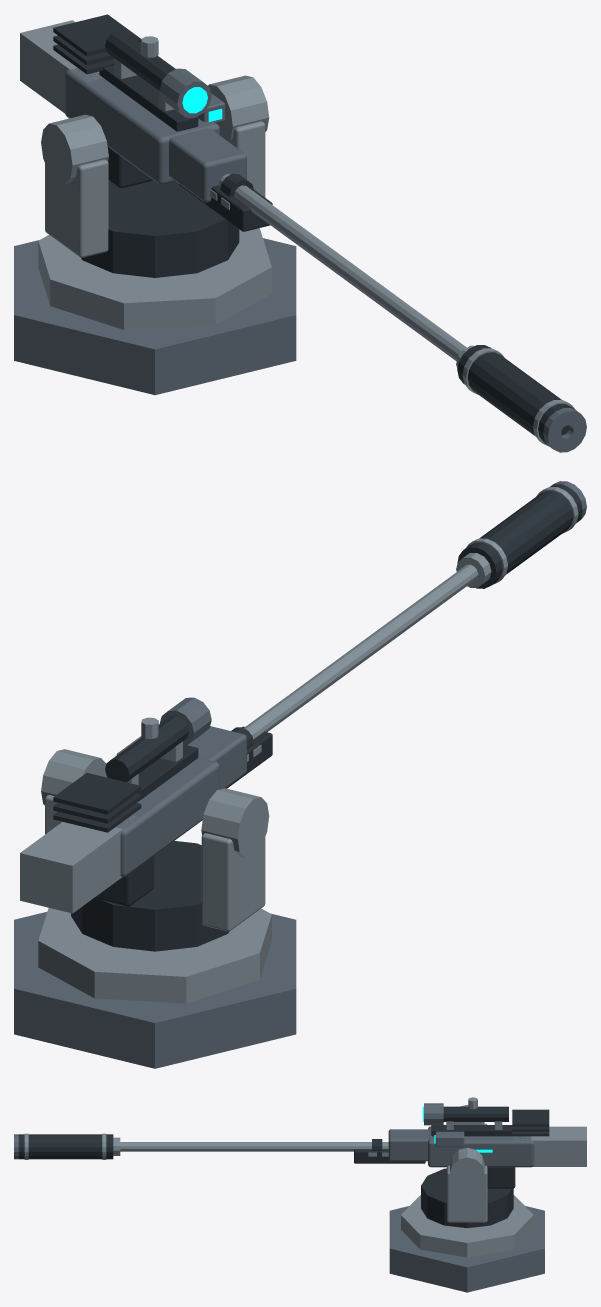
The model's file is needle_t3_d0.glb.
The picture shows the model from 3 angles, top to bottom: view 1: azimuth 30°, elevation 25°; view 2: azimuth 150°, elevation 25°; view 3: azimuth 270°, elevation 25°; orthographic projection. The views are drawn at different scales.
Visible parts, largest first — view 1: RECOIL_ARMOR_GEOMETRY, BASE_ARMOR_GEOMETRY, YAW_ARMOR_GEOMETRY, RECOIL_SIGNAL_GEOMETRY; view 2: RECOIL_ARMOR_GEOMETRY, BASE_ARMOR_GEOMETRY, YAW_ARMOR_GEOMETRY; view 3: RECOIL_ARMOR_GEOMETRY, BASE_ARMOR_GEOMETRY, YAW_ARMOR_GEOMETRY.
Boxes of the visible parts, left/top/right/bottom form: RECOIL_ARMOR_GEOMETRY: left=20, top=14, right=586, bottom=452; BASE_ARMOR_GEOMETRY: left=14, top=228, right=296, bottom=395; YAW_ARMOR_GEOMETRY: left=45, top=121, right=265, bottom=277; RECOIL_SIGNAL_GEOMETRY: left=182, top=87, right=222, bottom=121; RECOIL_ARMOR_GEOMETRY: left=20, top=481, right=586, bottom=913; BASE_ARMOR_GEOMETRY: left=14, top=908, right=296, bottom=1068; YAW_ARMOR_GEOMETRY: left=45, top=795, right=265, bottom=951; RECOIL_ARMOR_GEOMETRY: left=14, top=1097, right=586, bottom=1188; BASE_ARMOR_GEOMETRY: left=389, top=1195, right=544, bottom=1292; YAW_ARMOR_GEOMETRY: left=421, top=1123, right=513, bottom=1228.
Size of the model in its own units: 1.55 by 1.48 by 4.96.
